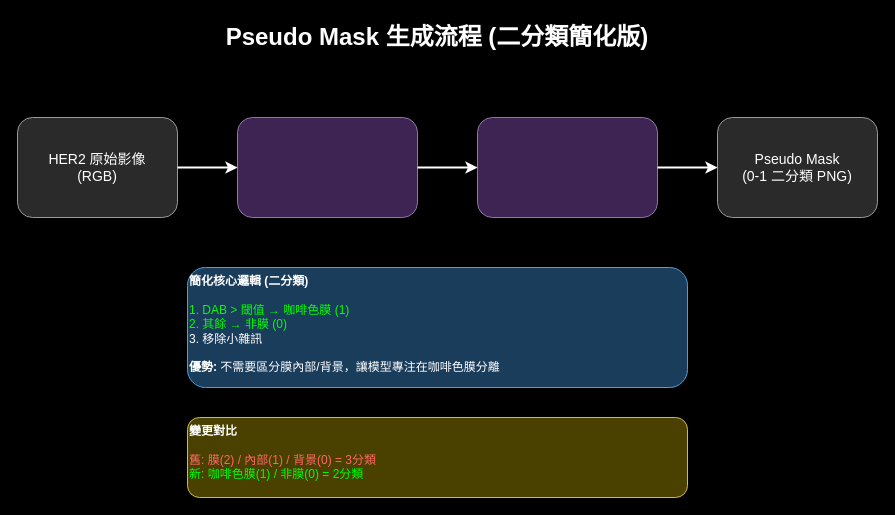
Some shapes in this 895 by 515 pixel diagram are drawn without their labels. Each missing label, with the centre of its shape:
OD 空間轉換 & Color Deconvolution (her2_mask.py): the point at 327,167
簡化邏輯 (二分類) 咖啡色膜(1) / 非膜(0) (membrane_seg.py): the point at 567,167
